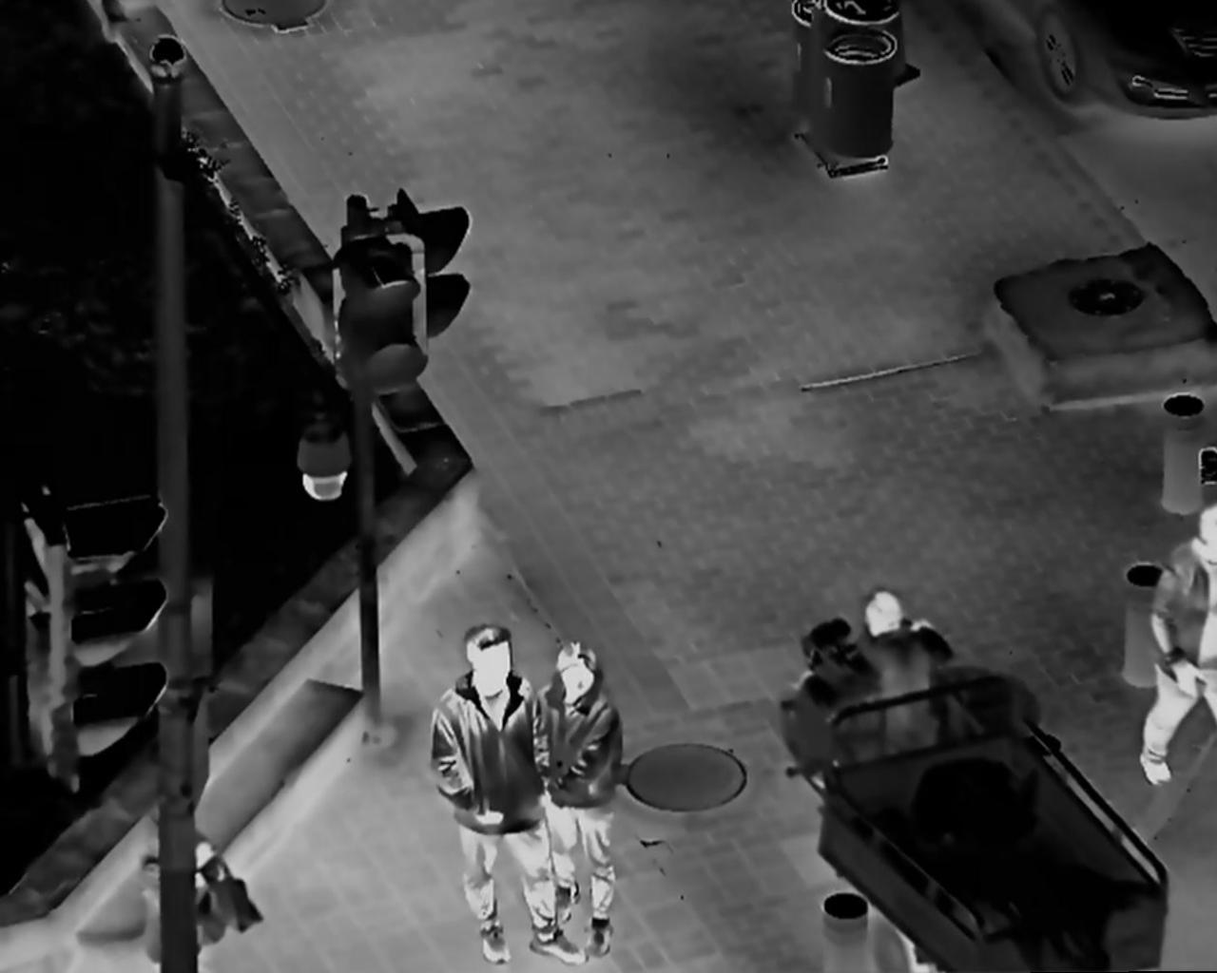person: (419, 619, 594, 964), (527, 627, 638, 963), (803, 583, 944, 758), (1136, 486, 1217, 788), (127, 803, 257, 973)
